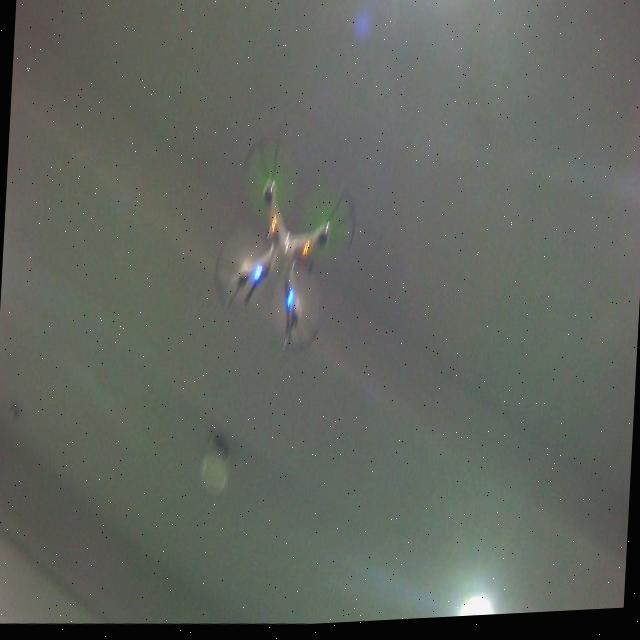drone: (206, 129, 362, 368)
